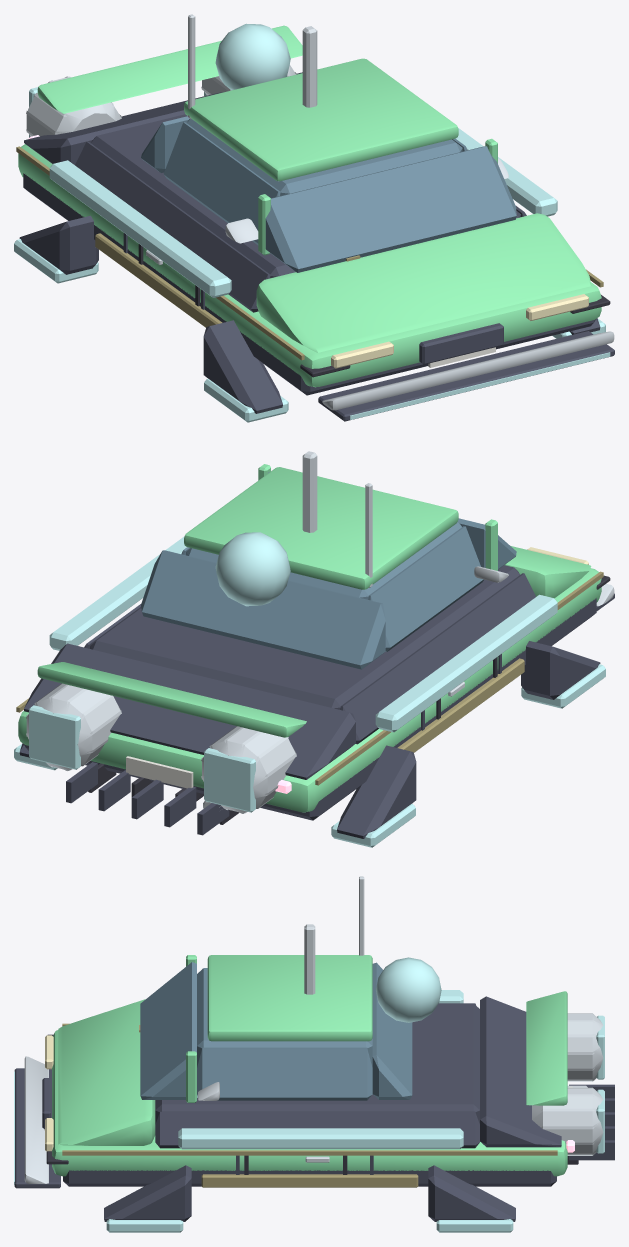
Rendered from aurora_arc.fbx.
3 views of the same model, one above another, from view 1: azimuth 30°, elevation 25°; view 2: azimuth 150°, elevation 25°; view 3: azimuth 270°, elevation 25° (orthographic). The views are drawn at different scales.
Visible parts, largest first — view 1: Body, Trim, Glass, Light, Accent, Accent2, Light2, Trim2; view 2: Trim, Body, Glass, Light, Accent, Accent2, Accent3, Trim2; view 3: Body, Trim, Glass, Light, Accent, Accent2, Light2.
Part boxes in pixels (x1,y1,x2,y2): Body: (18,25,601,387); Trim: (19,72,614,421); Glass: (141,116,516,272); Light: (14,23,610,422); Accent: (26,14,614,410); Accent2: (16,146,603,360); Light2: (331,294,588,368); Trim2: (138,244,610,377); Trim: (19,565,614,838); Body: (18,464,601,812); Glass: (141,472,516,669); Light: (14,532,605,847); Accent: (26,451,614,813); Accent2: (16,571,603,785); Accent3: (126,756,193,788); Trim2: (88,575,610,824); Body: (52,955,567,1176); Trim: (14,996,614,1221); Glass: (140,962,412,1100); Light: (14,957,604,1232); Accent: (24,876,603,1183); Accent2: (62,1023,557,1187); Light2: (45,1035,53,1151).
Size of the model in its own units: 3.3 by 2.44 by 5.48.
